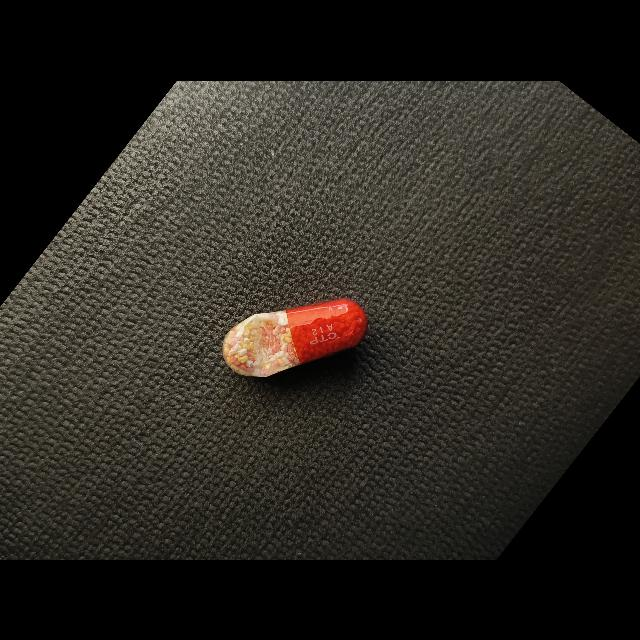Defective Capsule: (222, 298, 368, 377)
